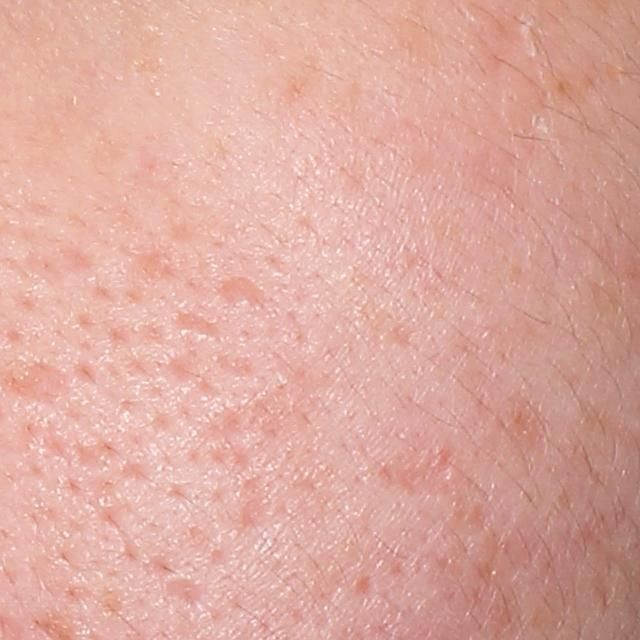atrophic_scar: (374, 440, 468, 507), (194, 402, 256, 448), (235, 471, 276, 532), (161, 348, 214, 389), (130, 251, 172, 301), (157, 570, 203, 615), (217, 277, 267, 318), (169, 310, 223, 347), (349, 569, 376, 598)
